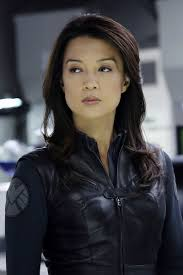asian_female: (43, 21, 151, 135)
